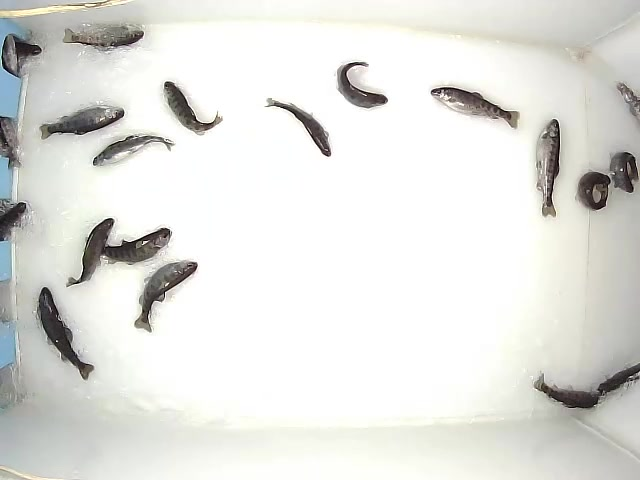fish: (38, 287, 95, 381), (134, 260, 198, 333), (264, 97, 331, 157), (431, 87, 520, 130), (66, 218, 115, 288), (163, 81, 223, 136), (87, 228, 172, 266), (39, 105, 125, 140), (533, 373, 607, 409), (93, 135, 176, 167), (337, 62, 388, 109), (536, 119, 560, 218), (63, 26, 144, 47), (596, 361, 640, 397), (575, 169, 611, 211), (609, 151, 640, 194)
